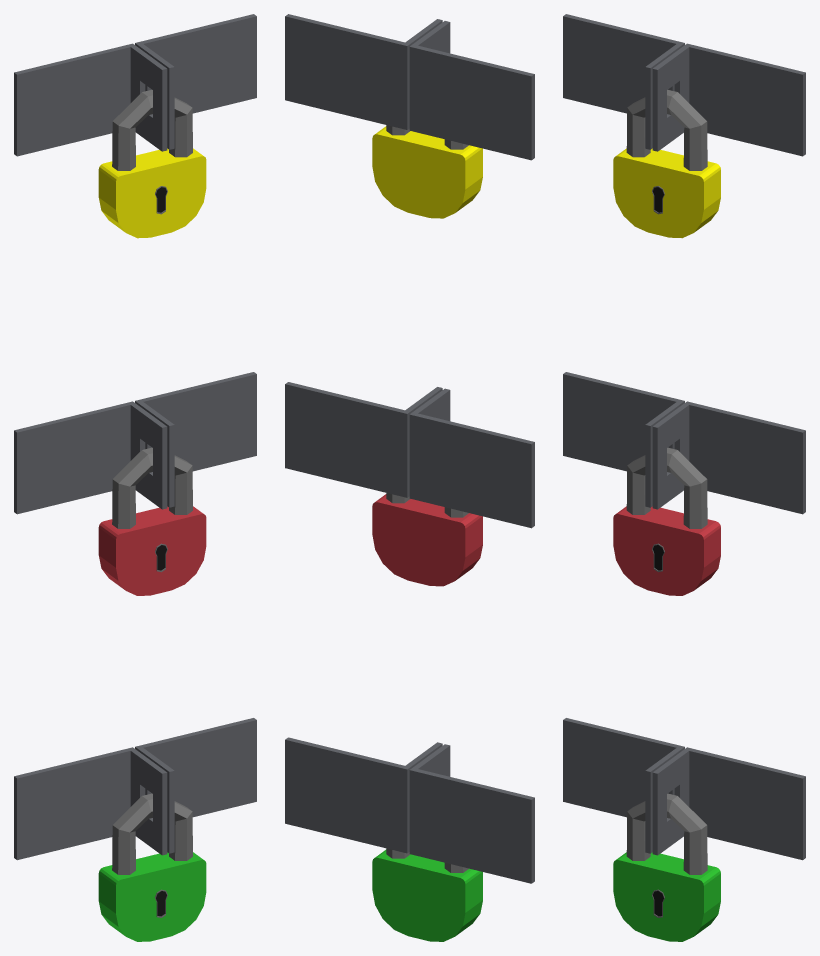
File: cadeados.fbx
3 renders of one model, left to right at view 1: azimuth 30°, elevation 25°; view 2: azimuth 150°, elevation 25°; view 3: azimuth 330°, elevation 25°, orthographic. The views are drawn at different scales.
Visible parts, largest first — view 1: Cube.001, Cube.004, Cube.007, Cube.008, Cube.002, Cube.005, Cube.006, Cube, Cube.003, Circle.004, Circle.002, Circle; view 2: Cube.004, Cube.001, Cube.007, Cube.002, Cube.008, Cube.005, Cube.006, Cube, Cube.003; view 3: Cube.002, Cube.005, Cube.008, Cube.001, Cube.004, Cube.007, Cube.003, Cube, Cube.006, Circle.004, Circle.002, Circle.
Part boxes in pixels (x1,y1,x2,y2): Cube.001: [14, 747, 167, 860]; Cube.004: [14, 401, 167, 514]; Cube.007: [14, 43, 167, 156]; Cube.008: [135, 14, 256, 149]; Cube.002: [135, 718, 256, 853]; Cube.005: [135, 372, 256, 507]; Cube.006: [98, 148, 206, 238]; Cube: [98, 852, 206, 941]; Cube.003: [98, 506, 206, 595]; Circle.004: [112, 90, 192, 170]; Circle.002: [112, 447, 192, 528]; Circle: [112, 793, 192, 874]; Cube.004: [409, 388, 534, 528]; Cube.001: [409, 744, 534, 883]; Cube.007: [409, 21, 534, 160]; Cube.002: [285, 737, 442, 853]; Cube.008: [285, 14, 442, 129]; Cube.005: [285, 382, 442, 497]; Cube.006: [372, 126, 482, 218]; Cube: [372, 849, 482, 941]; Cube.003: [372, 494, 482, 586]; Cube.002: [652, 747, 805, 860]; Cube.005: [652, 401, 805, 514]; Cube.008: [652, 43, 805, 156]; Cube.001: [563, 718, 684, 853]; Cube.004: [563, 372, 684, 507]; Cube.007: [563, 14, 684, 149]; Cube.003: [613, 506, 720, 595]; Cube: [613, 852, 720, 941]; Cube.006: [613, 148, 720, 238]; Circle.004: [626, 90, 707, 170]; Circle.002: [626, 447, 707, 528]; Circle: [626, 793, 707, 874].
Size of the model in its own units: 18.54 by 64.69 by 4.62.
